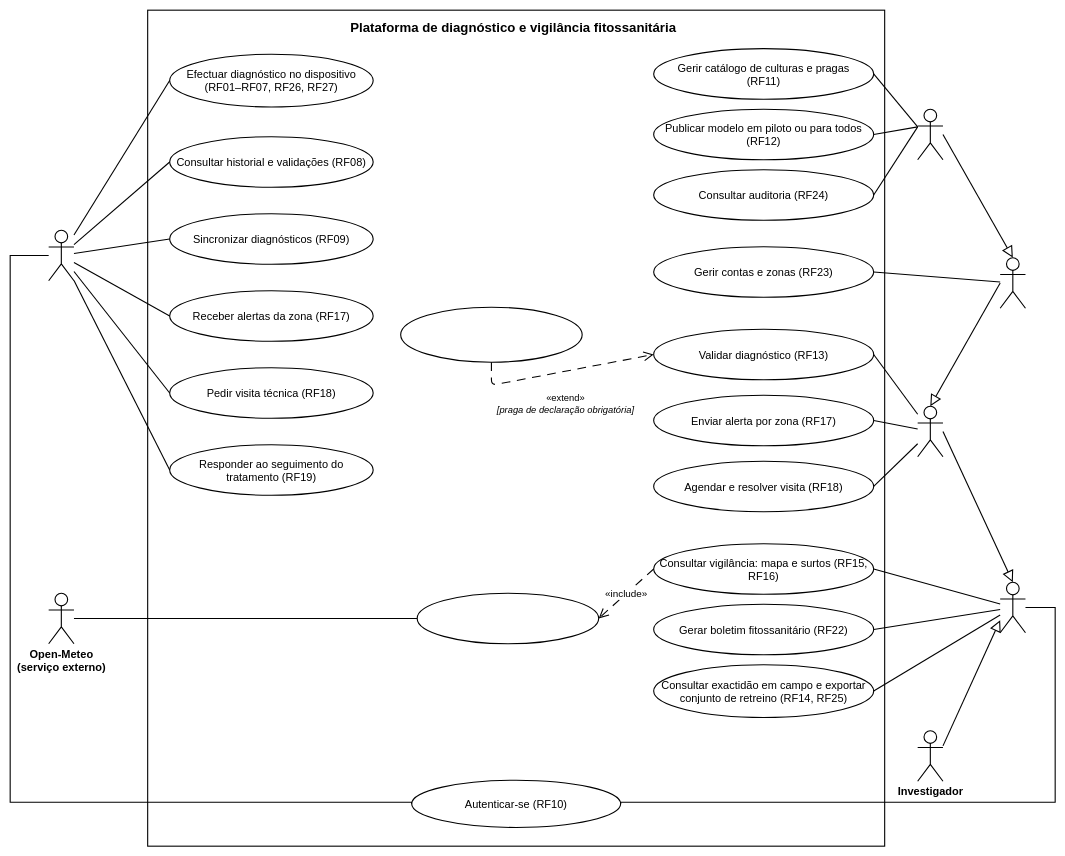
The diagram is 1065 pixels wide and 856 high, and some of its shapes have lost their labels. The box of each missing label's shape, as (x1, y1, x2, y2) in pixels:
Administrador: (917, 108, 943, 160)
Agricultor: (48, 229, 74, 281)
Avisar caso de declaração obrigatória (RF20): (400, 306, 582, 362)
Calcular risco meteorológico (RF21): (416, 592, 599, 644)
Coordenador provincial: (999, 257, 1026, 309)
Equipa: (999, 581, 1026, 633)
Técnico: (917, 405, 943, 457)
